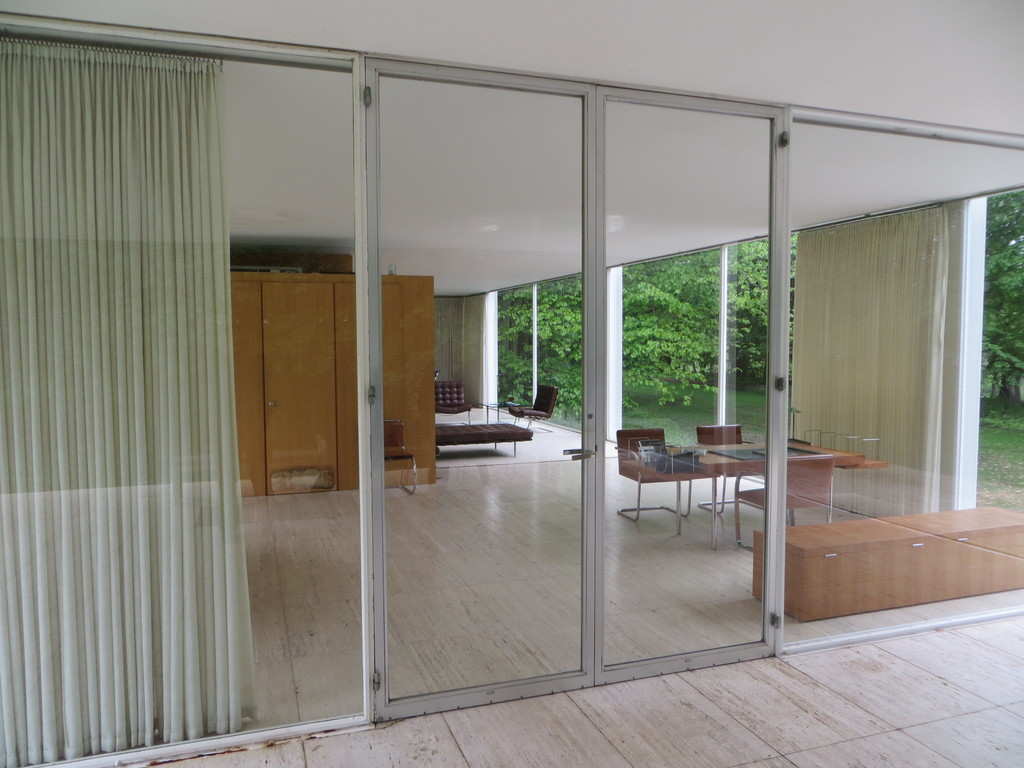Cabinetry: (232, 266, 438, 502), (739, 474, 1020, 644)
